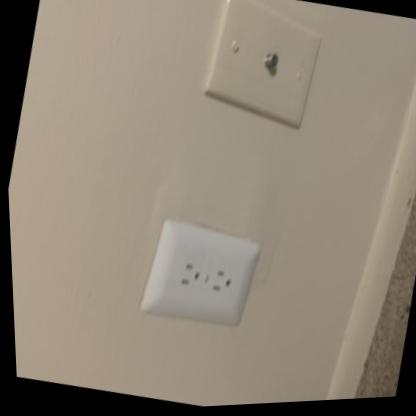OUTLET: (135, 218, 264, 335)
